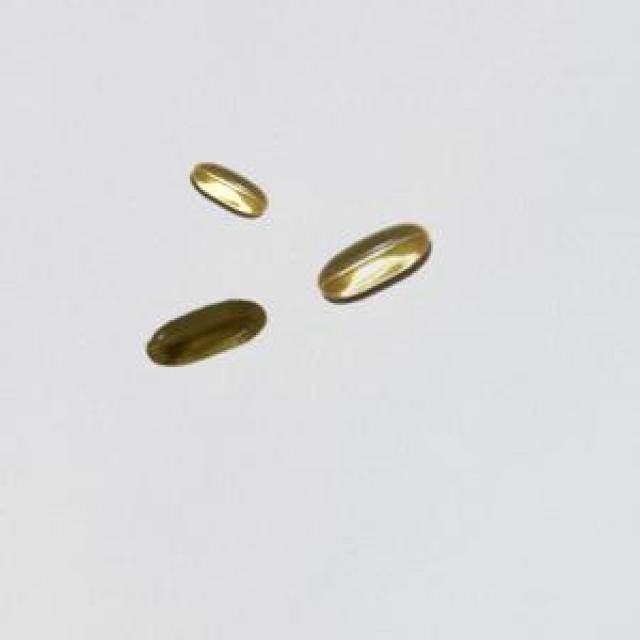Fish_Oil: (307, 210, 439, 320), (130, 289, 284, 380), (185, 153, 273, 225)
